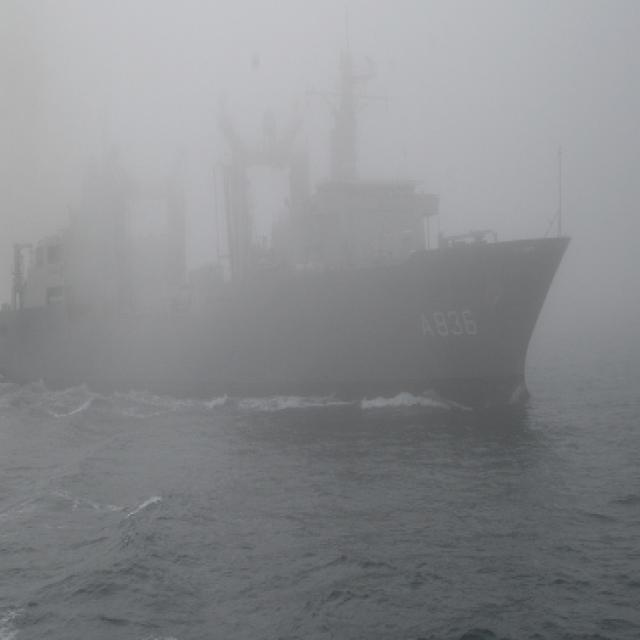cargoship: (2, 36, 587, 450)
